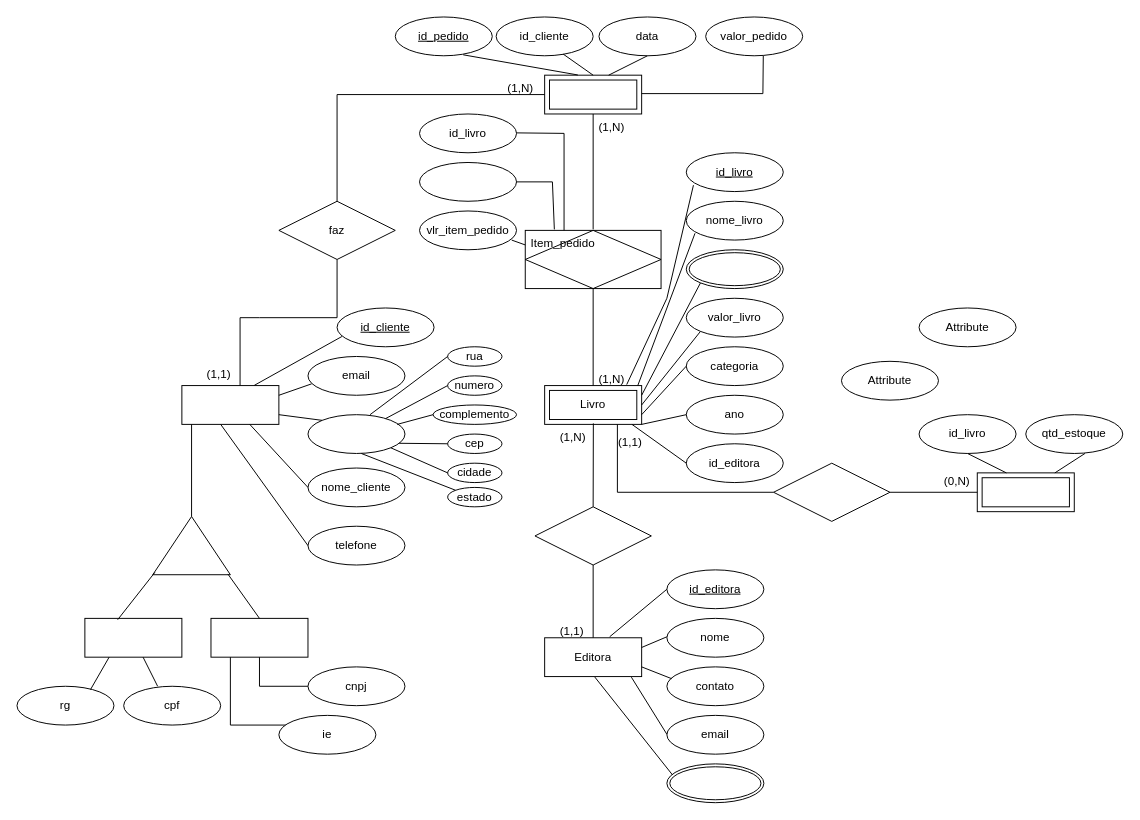
The diagram is 1140 pixels wide and 820 high, and some of its shapes have lost their labels. The shapes that lost their labels are listed below. From the top down, each one's box as (x1, y1, x2, y2) in pixels, then its label:
(544, 74, 642, 114): Pedido
(419, 162, 517, 201): qtd_pedido
(524, 229, 661, 289): Contém
(685, 249, 783, 289): autor (1,N)
(181, 385, 279, 424): Cliente
(307, 414, 405, 453): endereco
(773, 462, 890, 521): existe
(976, 472, 1074, 512): Estoque
(534, 506, 651, 565): pertence
(84, 617, 182, 657): fisica
(210, 617, 308, 657): juridica
(666, 763, 764, 803): tel_editora (1,2)
